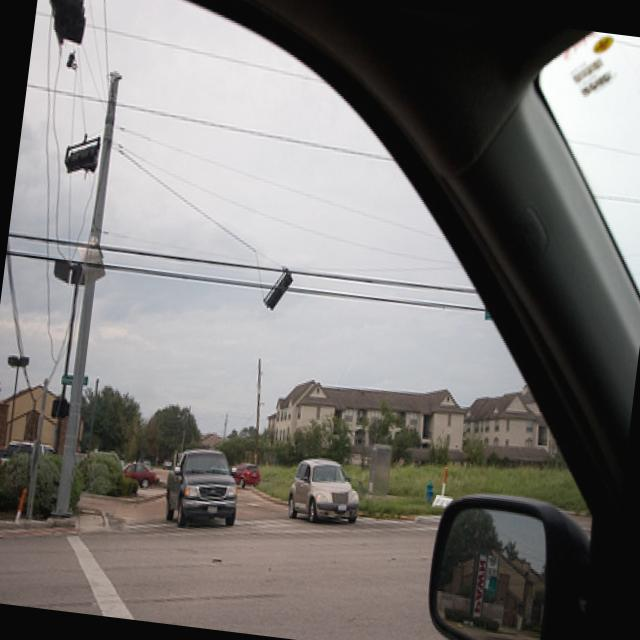Vehicle: (161, 444, 243, 535), (162, 442, 243, 534), (284, 454, 364, 530), (0, 436, 58, 469), (121, 460, 159, 489), (231, 461, 262, 491), (162, 458, 172, 470), (0, 446, 6, 462)
